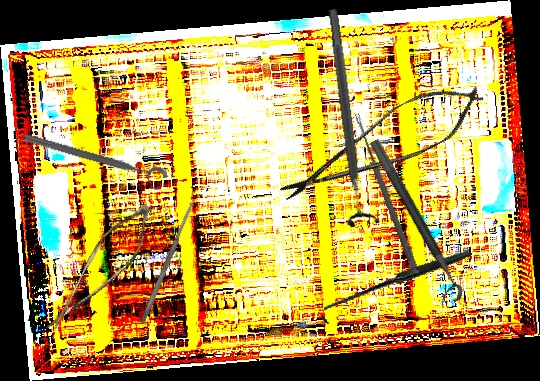Fixation Ring: (355, 138, 467, 309), (315, 7, 381, 228), (18, 128, 171, 195)
Hook Surgical: (319, 213, 473, 361)
Micro Scissor: (271, 68, 493, 221), (44, 189, 160, 353)
Spatula Surgical: (138, 200, 197, 325)
Surgical Spoon: (352, 112, 421, 276)
